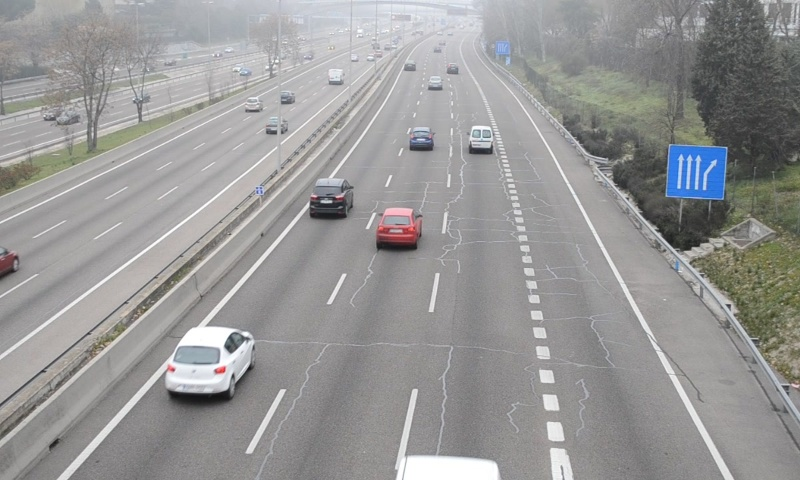car: (163, 328, 256, 393), (308, 178, 352, 216), (376, 207, 421, 244), (409, 127, 432, 150), (428, 76, 444, 90)
van: (468, 125, 494, 153)
